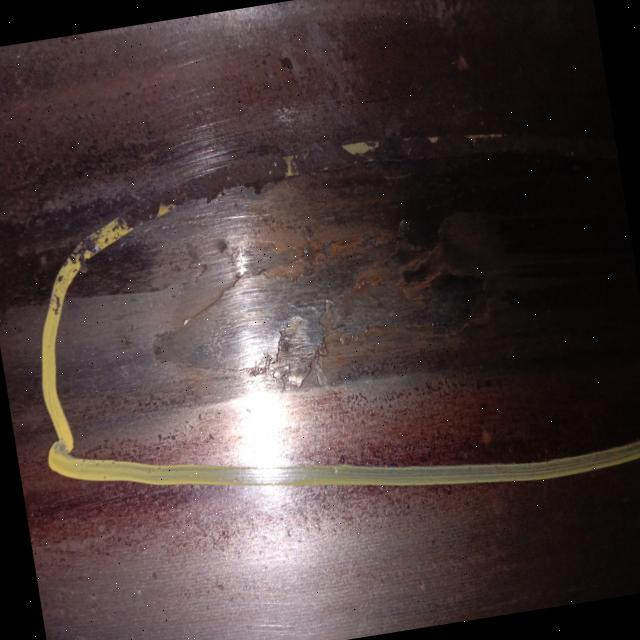flat: (128, 187, 595, 436)
